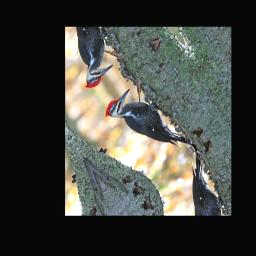Woodpecker: (101, 70, 195, 186)
